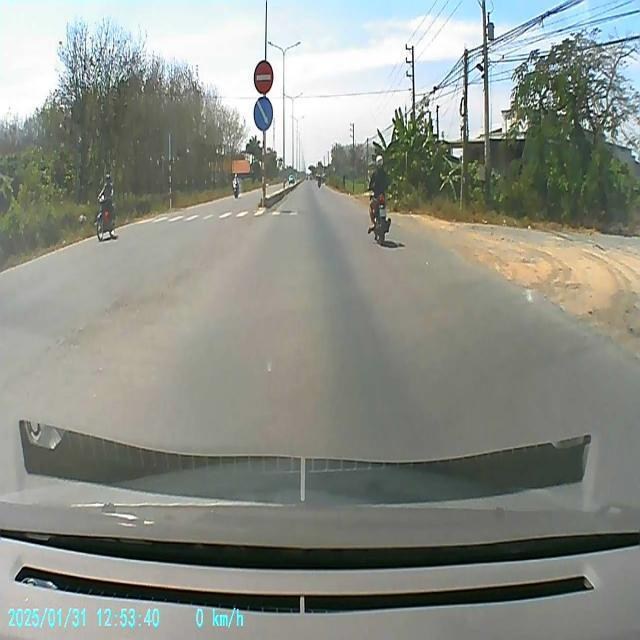102-cam-di-nguoc-chieu: (254, 60, 274, 94)
302a-huong-phai-di-vong-chuong-ngai-vat-1: (253, 95, 273, 129)
